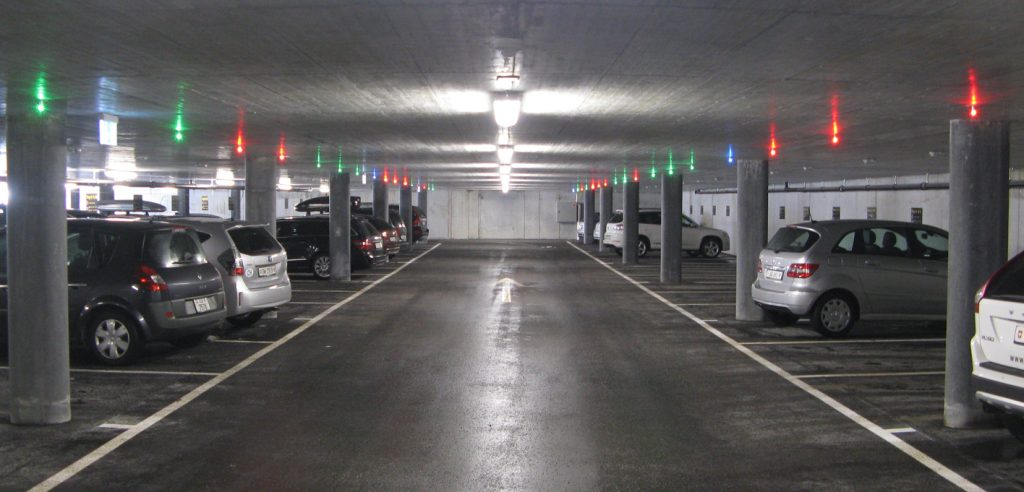empyt_space: (794, 362, 944, 442), (728, 336, 944, 382), (668, 295, 731, 326), (292, 284, 353, 309)
